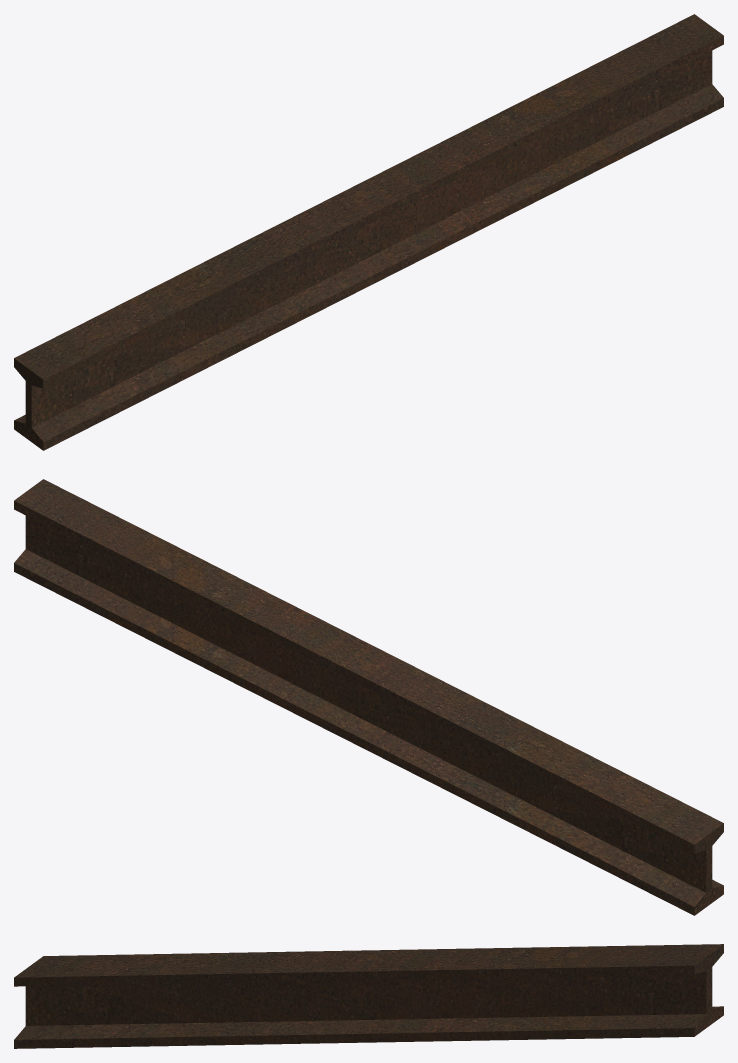
The model's file is beam_hc_horizonatal_2.glb.
The picture shows the model from 3 angles, top to bottom: view 1: azimuth 30°, elevation 25°; view 2: azimuth 150°, elevation 25°; view 3: azimuth 330°, elevation 25°; orthographic projection.
Visible parts, largest first — view 1: beam_hc_horizonatal_2; view 2: beam_hc_horizonatal_2; view 3: beam_hc_horizonatal_2.
Boxes of the visible parts, x1=… form: beam_hc_horizonatal_2: x1=14, y1=14, x2=723, y2=450; beam_hc_horizonatal_2: x1=14, y1=479, x2=723, y2=915; beam_hc_horizonatal_2: x1=14, y1=944, x2=723, y2=1048.
Bounding box in the file's own units: 4 × 1.4 × 0.3.
Materials: 1 (1 with a texture image).
